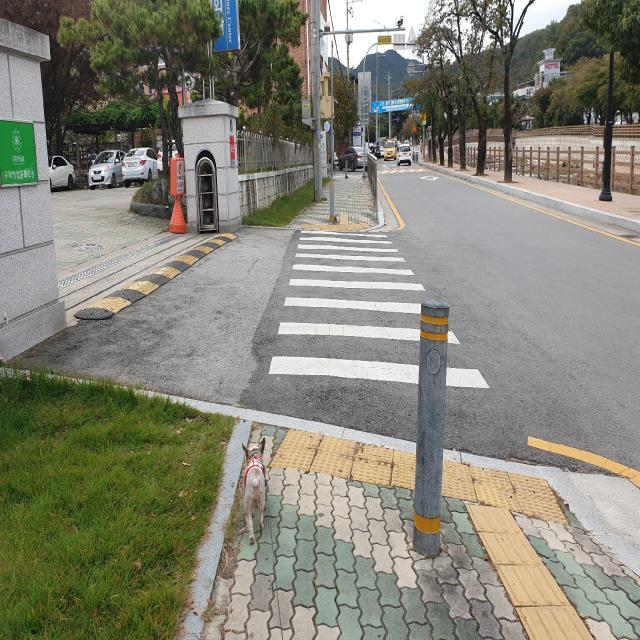횡단보도: (266, 224, 491, 393)
